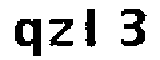3: (115, 5, 148, 49)
l: (81, 6, 102, 49)
q: (13, 18, 44, 58)
z: (47, 15, 74, 49)
